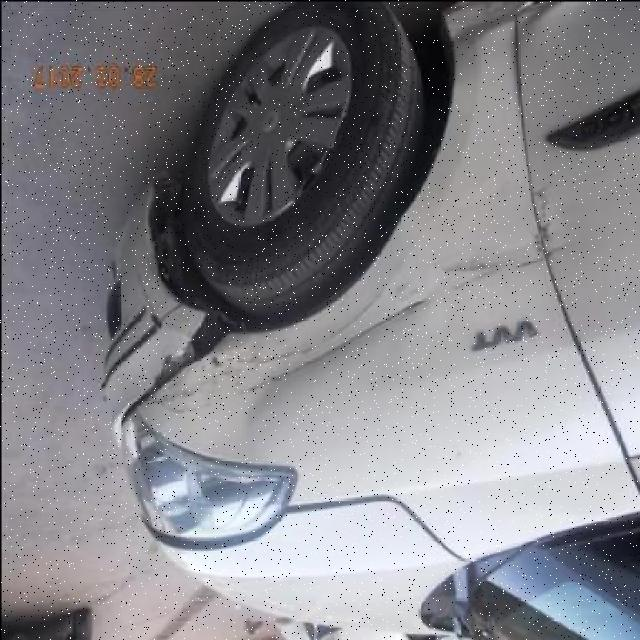damage: (146, 280, 428, 413), (122, 288, 230, 425), (436, 0, 569, 46), (510, 180, 559, 274), (437, 248, 505, 289)
